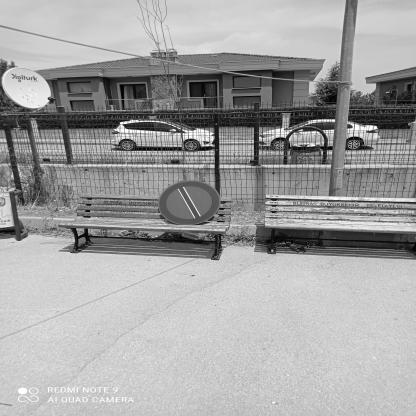No Waiting: (160, 182, 222, 226)
